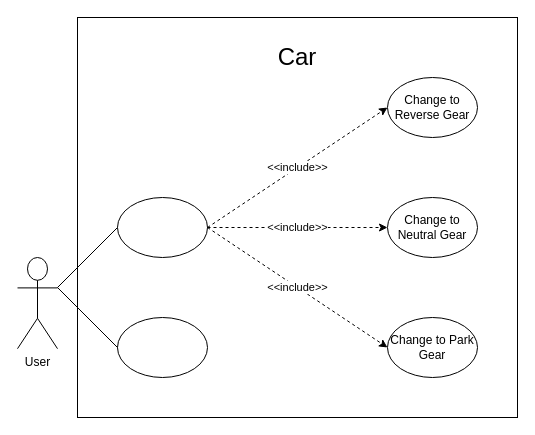
Image size: 535x435. Some labels were removed from this diagram. The shapes that lost their labels are listed below. From the top down, each one's box as (x1, y1, x2, y2) in pixels, then its label:
(116, 196, 208, 258): Turn On Engine
(116, 316, 208, 378): Turn Off Engine
